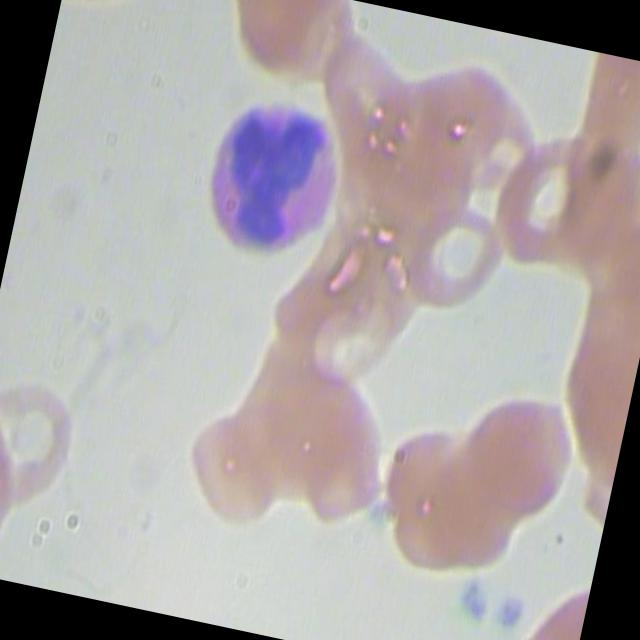Platelets: (487, 582, 533, 640), (452, 569, 498, 627)
RBC: (475, 118, 608, 281), (451, 369, 586, 528), (302, 16, 424, 168), (279, 386, 398, 536), (366, 402, 484, 552), (177, 396, 300, 536), (398, 186, 514, 320), (0, 356, 92, 519)
WBC: (174, 66, 363, 285)
